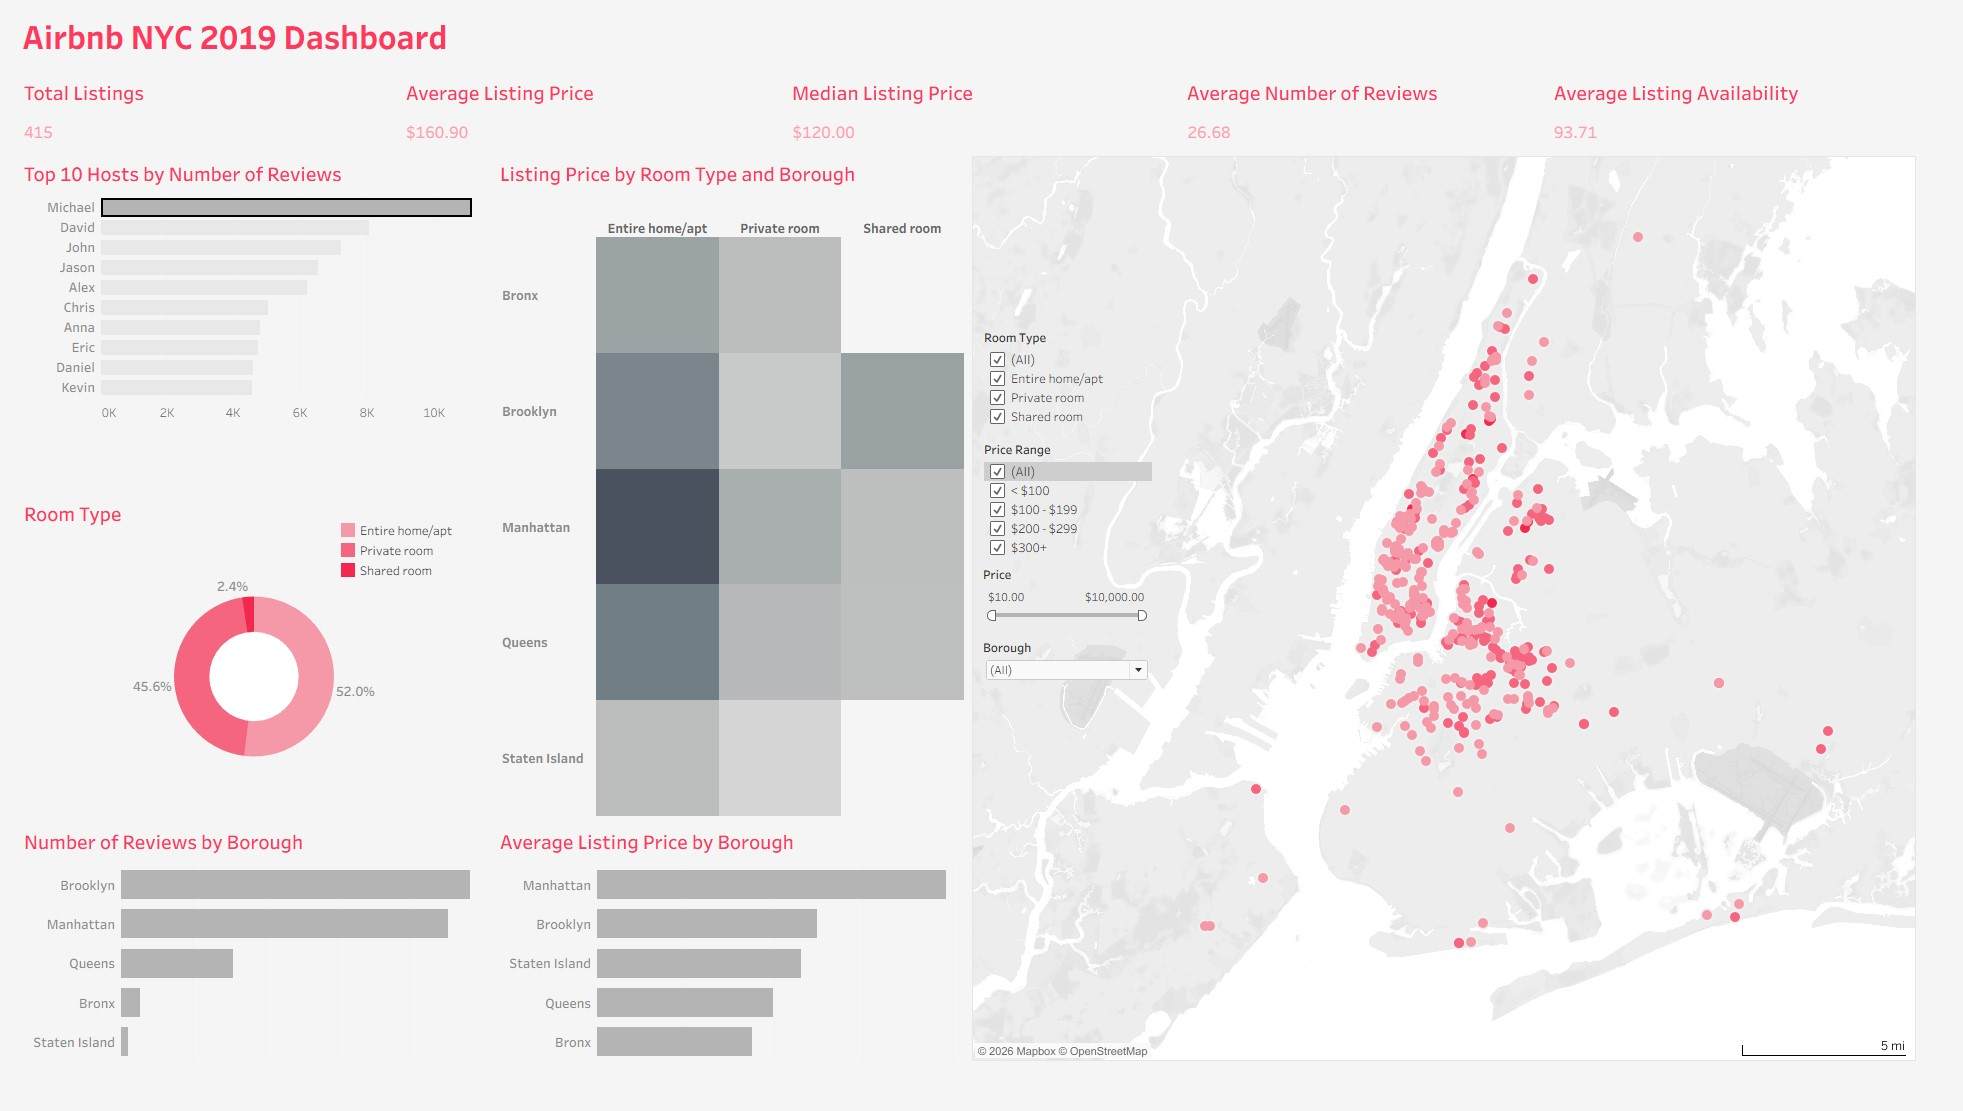

The dashboard page shown, as its layout file describes it:
{"tool":"tableau","page":{"name":"Dashboard 1","canvas":[1920,1080],"ordinal":0},"visuals":[{"type":"text","box":[8,8,1904,70]},{"type":"worksheet","title":"KPItotallistings","mark":"Automatic","box":[8,78,382,81.3]},{"type":"worksheet","title":"KPIavgprice","mark":"Automatic","box":[390,78,386,81.3]},{"type":"worksheet","title":"KPImedprice","mark":"Automatic","box":[776,78,395,81.3]},{"type":"worksheet","title":"KPIavgreviews","mark":"Automatic","box":[1171,78,367,81.3]},{"type":"worksheet","title":"KPIavgavailability","mark":"Automatic","box":[1538,78,374,81.3]},{"type":"worksheet","title":"Barhostsbyreviews","mark":"Automatic","rows":["host_name"],"cols":["number_of_reviews"],"box":[8,159.3,475.9,339.7]},{"type":"worksheet","title":"Heatmaptypebyborough","mark":"Automatic","rows":["neighbourhood_group"],"cols":["room_type"],"box":[484,159.3,476,668]},{"type":"worksheet","title":"Maplistings","mark":"Circle","rows":["latitude"],"cols":["longitude"],"box":[960,159.3,952,912.7]},{"type":"filter","title":"Maplistings","param":"[federated.145yd0z09dek1p122aieh1rym9jb].[none:room_type:nk]","box":[976,336,168,108]},{"type":"filter","title":"Maplistings","param":"[federated.145yd0z09dek1p122aieh1rym9jb].[none:Calculation_22804734207377409:nk]","box":[976,448,168,119]},{"type":"worksheet","title":"Donutroomtype","mark":"Pie","rows":["Calculation_0862293583007744","Calculation_0862293583007744"],"box":[8,499,475.9,328.2]},{"type":"legend","title":"Maplistings","param":"[federated.145yd0z09dek1p122aieh1rym9jb].[none:room_type:nk]","box":[330,509,140,82]},{"type":"filter","title":"Maplistings","param":"[federated.145yd0z09dek1p122aieh1rym9jb].[none:price:qk]","box":[975,573,168,69]},{"type":"filter","title":"Maplistings","param":"[federated.145yd0z09dek1p122aieh1rym9jb].[none:neighbourhood_group:nk]","box":[975,646,168,52]},{"type":"worksheet","title":"Barreviewsbyborough","mark":"Automatic","rows":["neighbourhood_group"],"cols":["number_of_reviews"],"box":[8,827.2,475.9,244.8]},{"type":"worksheet","title":"Barpricebyborough","mark":"Automatic","rows":["neighbourhood_group"],"cols":["price"],"box":[484,827.2,476,244.8]}]}

Visuals, with their boxes in screenshot pixels (x1, y1, x2, y2), scaled from the page's 1920x1080 canvas onto the 1963x1111 screenshot:
text: box=[8, 8, 1955, 80]
"KPItotallistings" worksheet: box=[8, 80, 399, 164]
"KPIavgprice" worksheet: box=[399, 80, 793, 164]
"KPImedprice" worksheet: box=[793, 80, 1197, 164]
"KPIavgreviews" worksheet: box=[1197, 80, 1572, 164]
"KPIavgavailability" worksheet: box=[1572, 80, 1955, 164]
"Barhostsbyreviews" worksheet: box=[8, 164, 495, 513]
"Heatmaptypebyborough" worksheet: box=[495, 164, 982, 851]
"Maplistings" worksheet (Circle marks): box=[982, 164, 1955, 1103]
"Maplistings" filter: box=[998, 346, 1170, 457]
"Maplistings" filter: box=[998, 461, 1170, 583]
"Donutroomtype" worksheet (Pie marks): box=[8, 513, 495, 851]
"Maplistings" legend: box=[337, 524, 481, 608]
"Maplistings" filter: box=[997, 589, 1169, 660]
"Maplistings" filter: box=[997, 665, 1169, 718]
"Barreviewsbyborough" worksheet: box=[8, 851, 495, 1103]
"Barpricebyborough" worksheet: box=[495, 851, 982, 1103]
